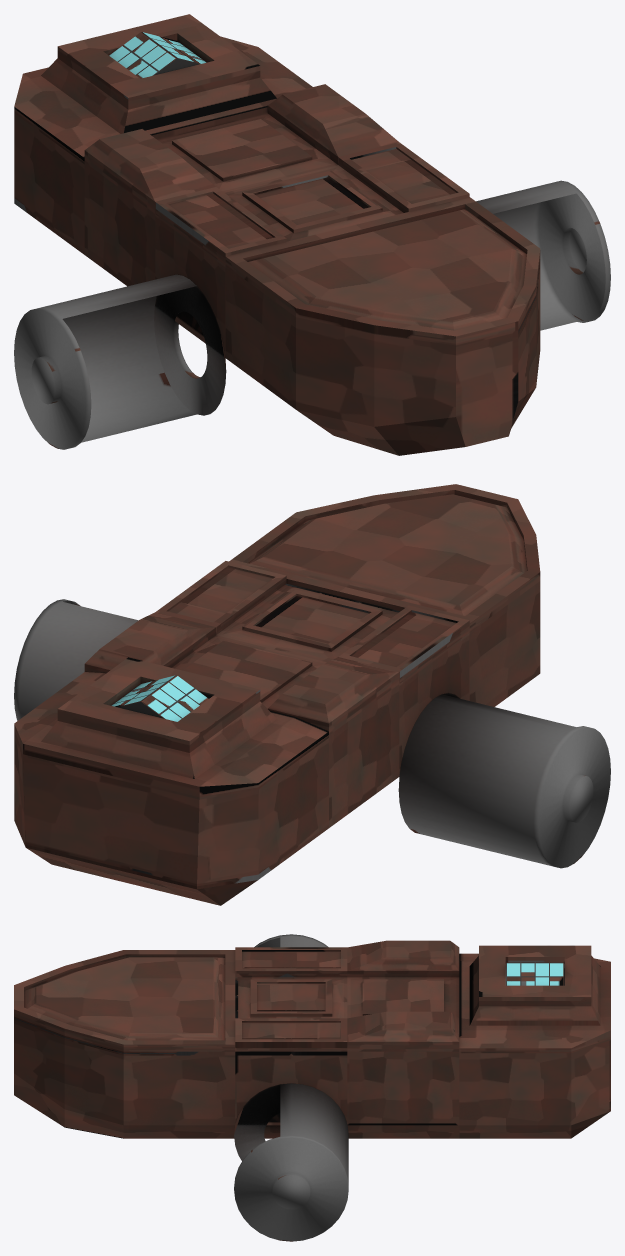
Rendered from BOAT.fbx.
The picture shows the model from 3 angles, top to bottom: view 1: azimuth 30°, elevation 25°; view 2: azimuth 150°, elevation 25°; view 3: azimuth 270°, elevation 25°; orthographic projection. The views are drawn at different scales.
Parts seen in each view (by area): view 1: Segment; view 2: Segment; view 3: Segment.
Part boxes in pixels (bbox=[...]): Segment: bbox=[14, 14, 610, 455]; Segment: bbox=[14, 484, 610, 905]; Segment: bbox=[14, 934, 610, 1241].
Size of the model in its own units: 881 by 349 by 1067.
1 material, 1 textured.
